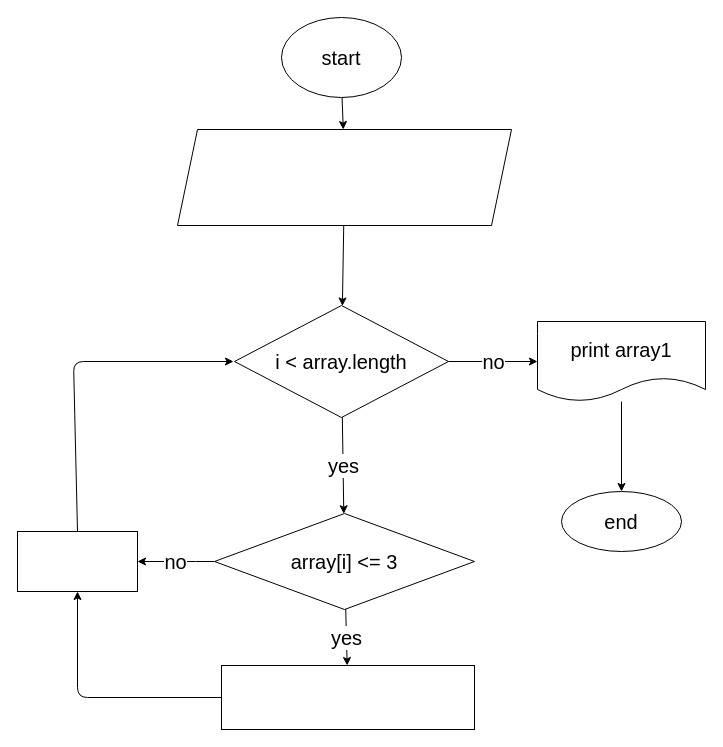
This 723x747 diagram has some shape labels left out. Each missing label, with the box of its shape:
array1[index] = array[i] index++: (220, 664, 474, 730)
array[i] = [...] array1[index] = [array.length] i = 0 index = 0: (176, 128, 512, 226)
i++: (16, 530, 138, 592)
